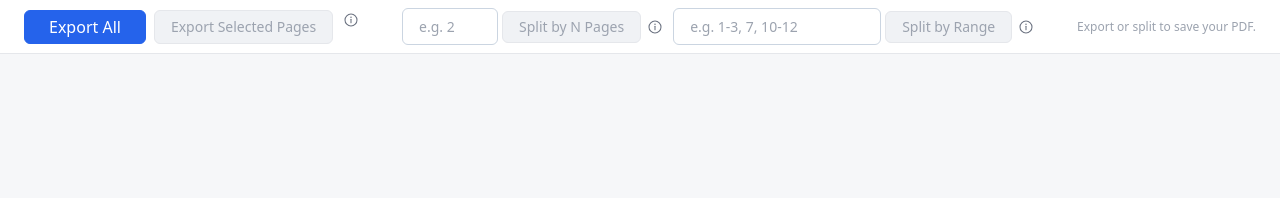
it: Toolbar — info icon (InfoTooltip) placement › reveals the splitByCount help copy only after its icon is activated
This screenshot has width=1280, height=198.
Click the button named "Help: Split every N pages" at (655, 26), box x1=645 y1=16 x2=665 y2=36
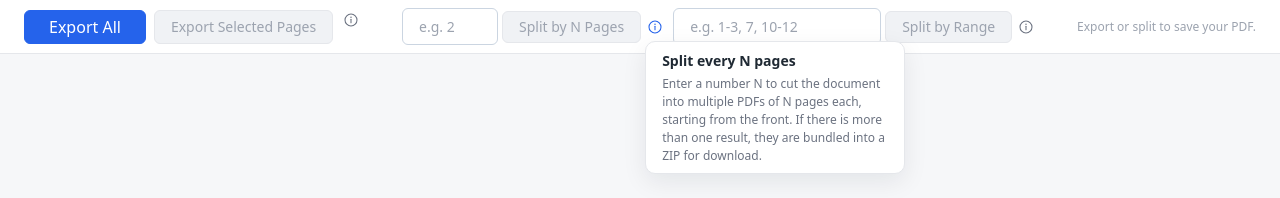
Expected: the text "Enter a number N to cut the document into multiple PDFs of N pages each, starting from the front. If there is more than " is shown, x1=662 y1=74 x2=885 y2=164
